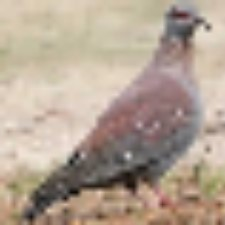pigeon: (21, 1, 214, 224)
